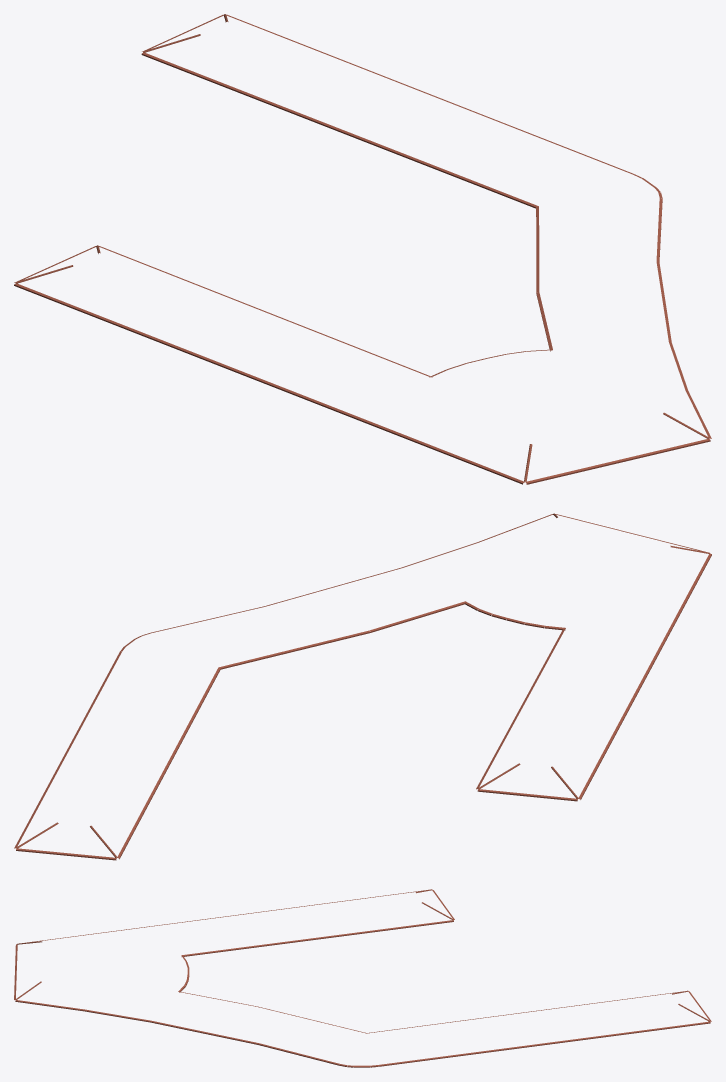
3 views of the same model, one above another, from view 1: azimuth 30°, elevation 25°; view 2: azimuth 150°, elevation 25°; view 3: azimuth 270°, elevation 25° (orthographic). The views are drawn at different scales.
Parts seen in each view (by area): view 1: detail; view 2: detail; view 3: detail.
Boxes of the visible parts, <box> form: detail: <box>14,14,711,484</box>; detail: <box>14,513,711,860</box>; detail: <box>14,889,711,1067</box>.
Bounding box in the file's own units: 72.34 × 2.39 × 120.
